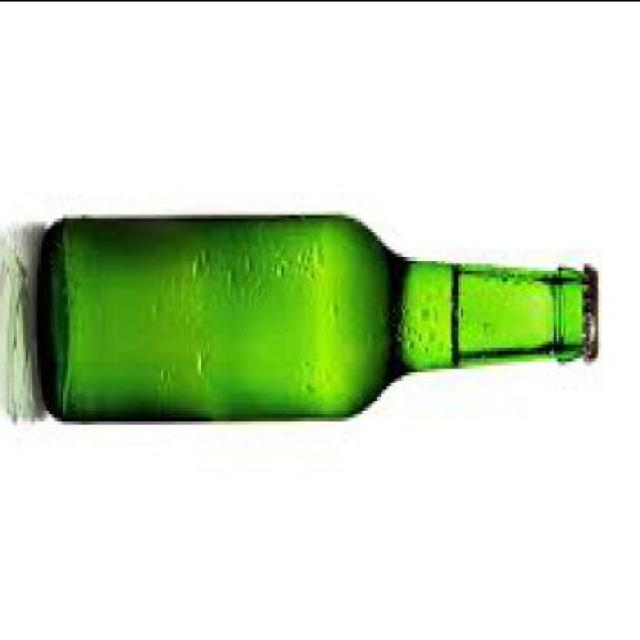GLASS: (36, 221, 588, 421)
METAL: (586, 262, 600, 359)
